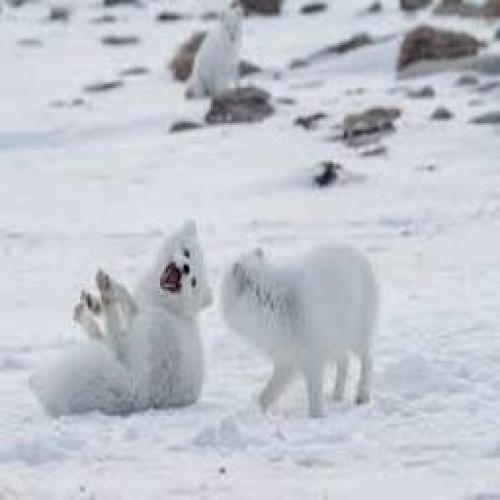arctic_fox-endangered: (19, 213, 218, 420), (218, 241, 400, 431)
